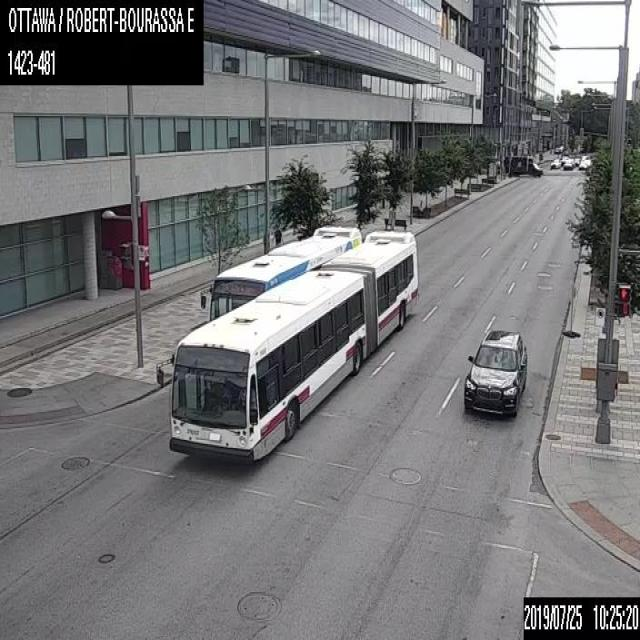bus: (156, 229, 419, 462), (198, 225, 361, 320)
pedestrian: (270, 222, 282, 246)
vehicle: (462, 329, 526, 419), (504, 153, 542, 176), (549, 157, 560, 168), (562, 160, 573, 169), (578, 160, 587, 169)
